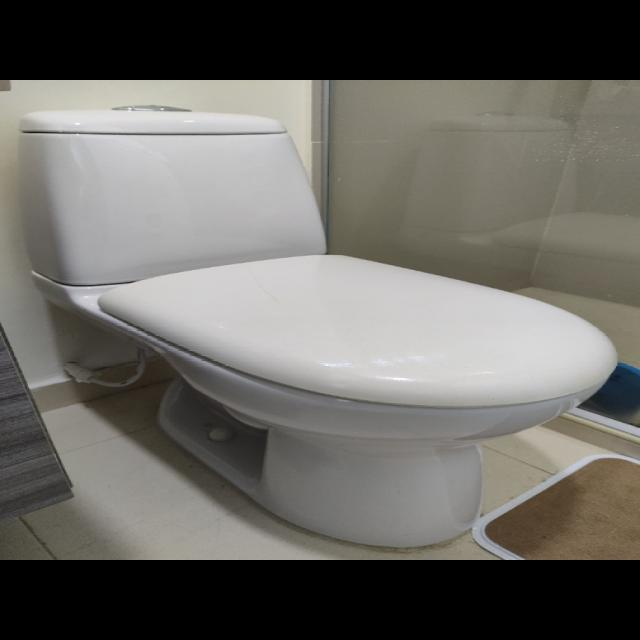toilet: (17, 106, 617, 548)
